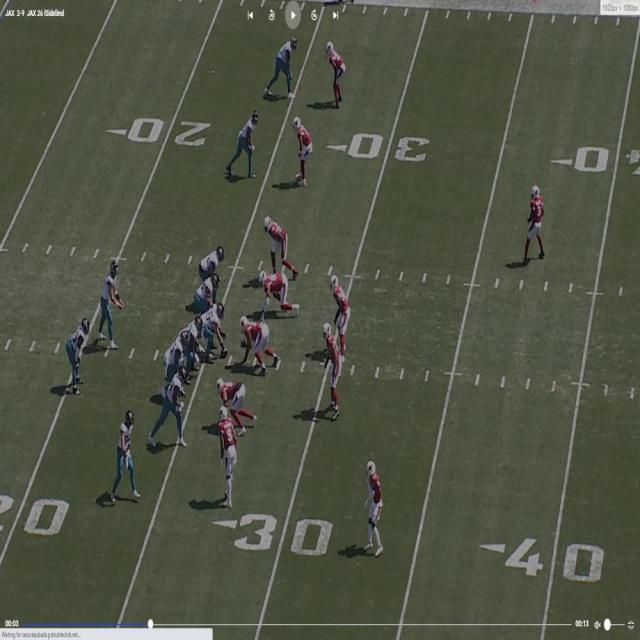center: (205, 302, 223, 343)
db: (218, 405, 235, 504), (369, 460, 385, 554), (326, 40, 344, 105), (529, 184, 543, 258), (294, 118, 312, 173)
lb: (322, 320, 340, 421), (330, 272, 351, 350), (265, 217, 291, 273)
qb: (99, 262, 124, 349)
skill: (165, 364, 186, 454), (118, 410, 140, 494), (232, 111, 260, 172), (69, 321, 89, 393), (272, 36, 296, 94)
